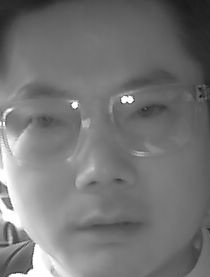eye: (22, 111, 68, 135), (127, 101, 170, 123)
glass: (106, 86, 198, 156), (1, 99, 85, 164)
mouth: (67, 206, 146, 246)
